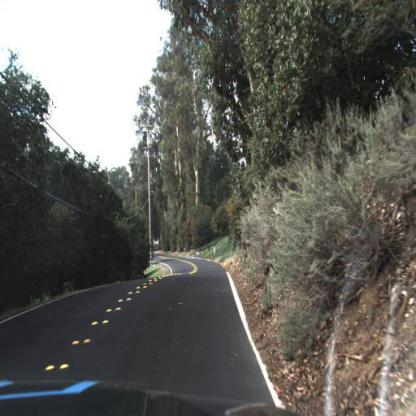car: (152, 240, 165, 258)
